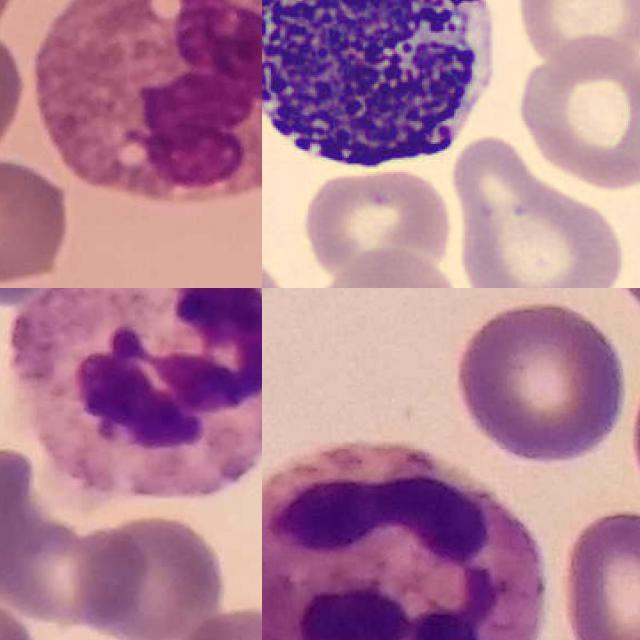Basophil: (262, 0, 505, 182)
Neutrophil: (262, 440, 545, 640), (10, 288, 262, 499), (33, 0, 262, 199)
RBC: (443, 131, 635, 288), (512, 34, 640, 193), (298, 165, 456, 287), (510, 0, 640, 73), (306, 246, 466, 288)
